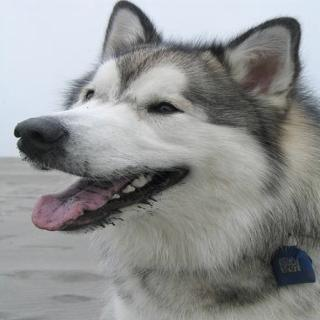dog: (9, 7, 308, 245)
nose: (13, 112, 80, 166)
